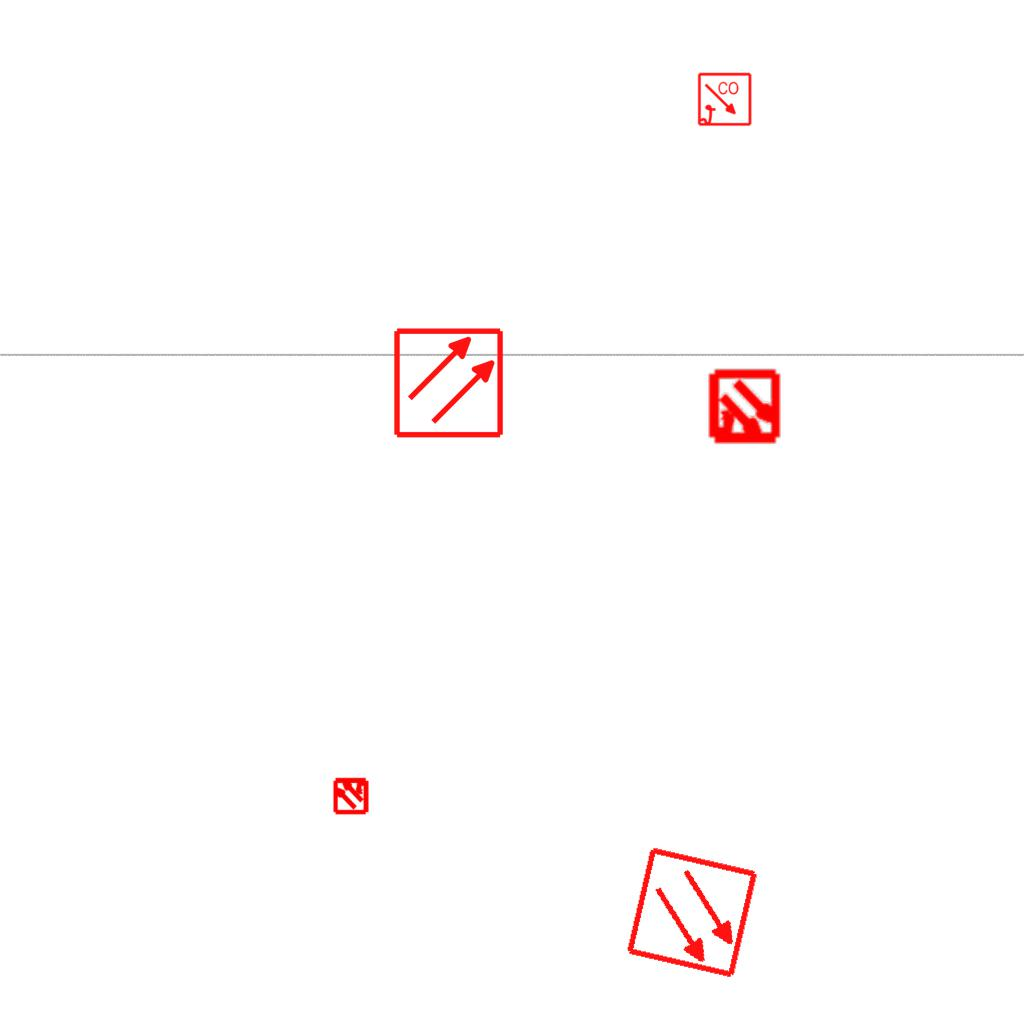OT_Multisensormelder_(Kombination_RMO_WMD): (688, 352, 801, 465), (323, 767, 379, 823)
RMO_Rauchmelder_optischer: (624, 844, 761, 981), (392, 326, 505, 439)
ROA_Rauchmelder_optisch_mit_Signalgeber_(Sockelsirene): (697, 72, 753, 128)
